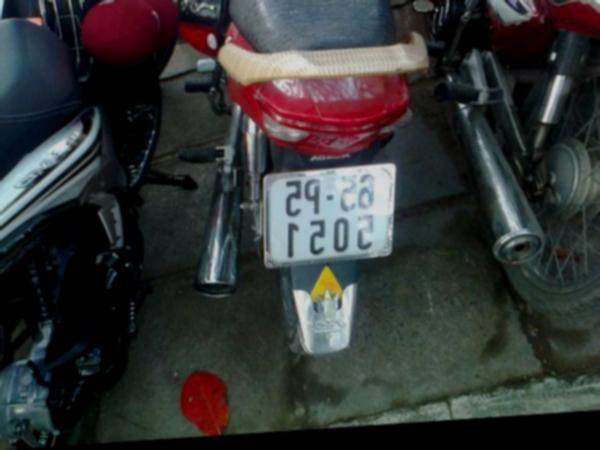License_Plate: (261, 163, 391, 266)
